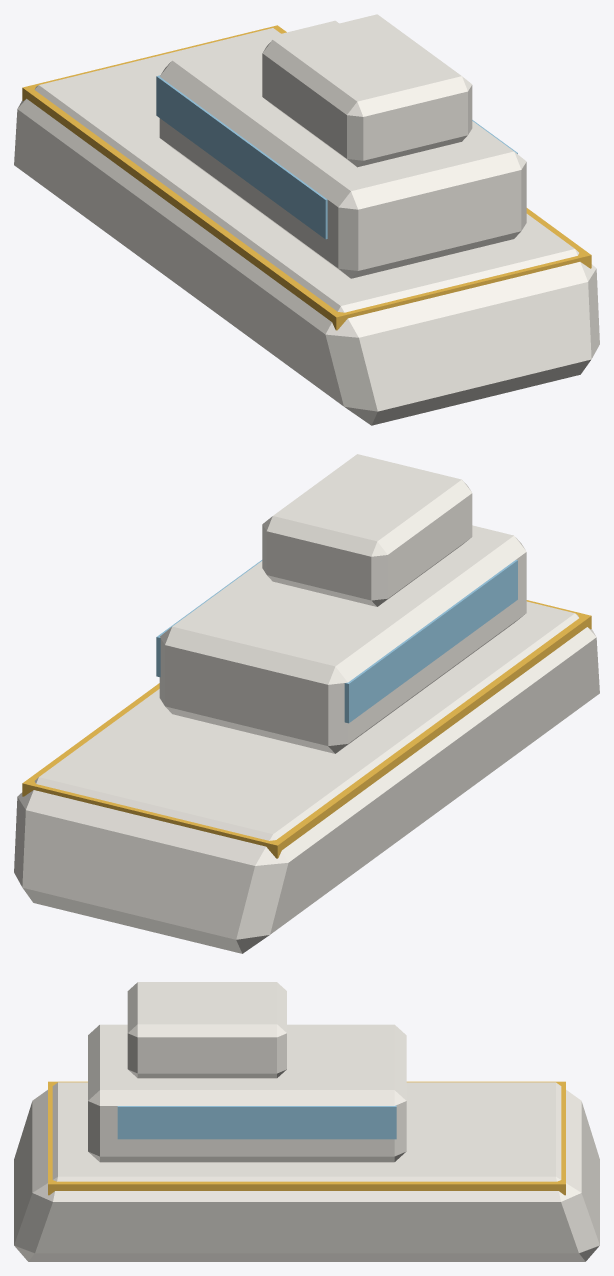
File: yacht.glb
3 renders of one model, top to bottom at view 1: azimuth 30°, elevation 25°; view 2: azimuth 150°, elevation 25°; view 3: azimuth 270°, elevation 25°, orthographic. The views are drawn at different scales.
Parts seen in each view (by area): view 1: yacht; view 2: yacht; view 3: yacht.
Boxes of the visible parts, bbox=[...] form: yacht: bbox=[14, 14, 599, 425]; yacht: bbox=[14, 454, 599, 953]; yacht: bbox=[14, 982, 599, 1261].
Bounding box in the file's own units: 1.3 × 1.2 × 2.94.
1 material, 1 textured.
